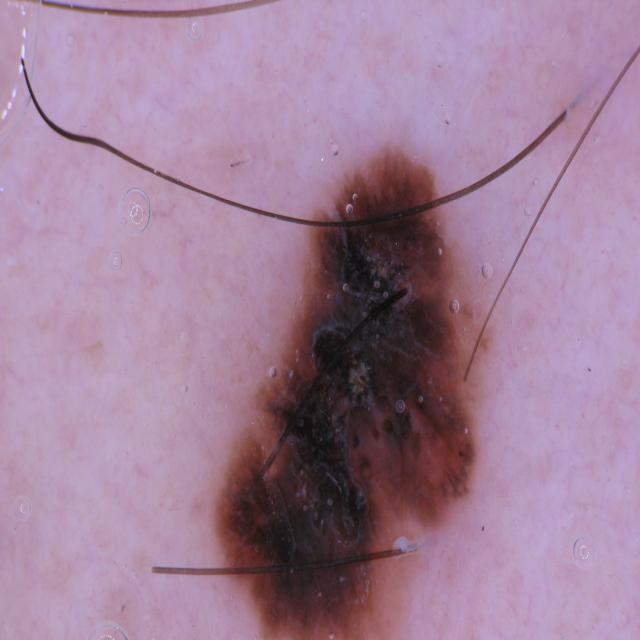Melanoma: (197, 117, 530, 640)
